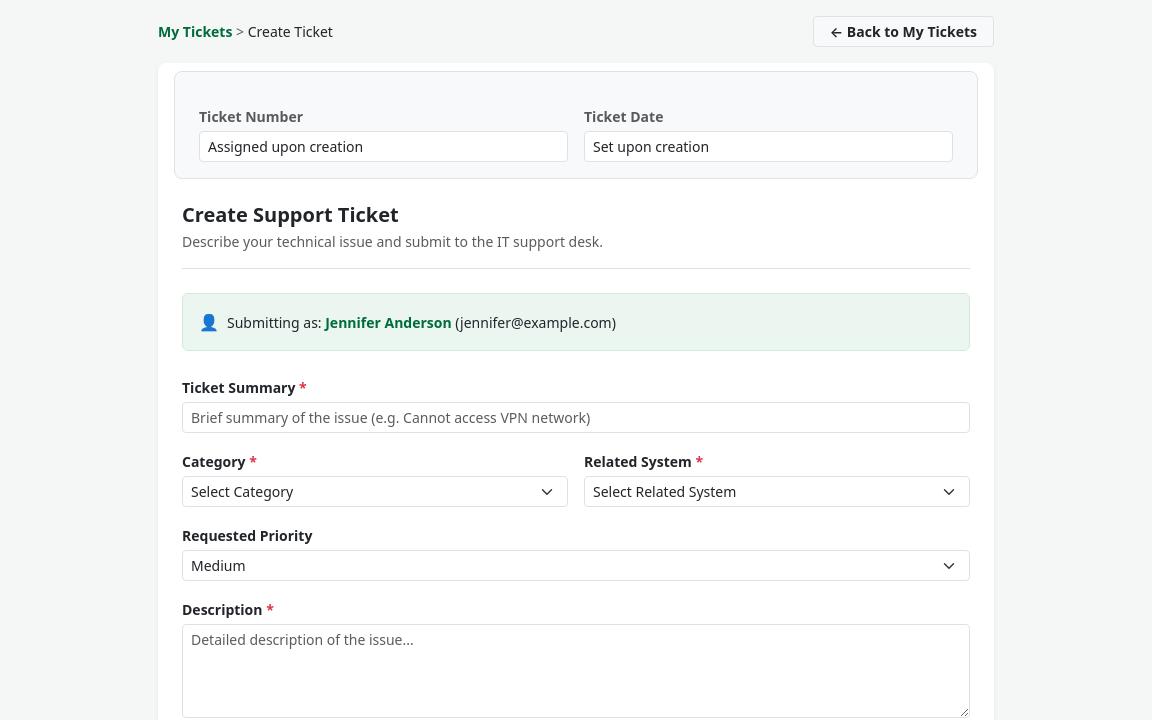
Test: Zen Green UI Style Checks › Create Ticket form › shows a spinner and disables the button while the form is busy submitting
Type "Test issue" into the field labelled "Ticket Summary *".
click(576, 418); type("Test issue")  # box [182,402,970,433]
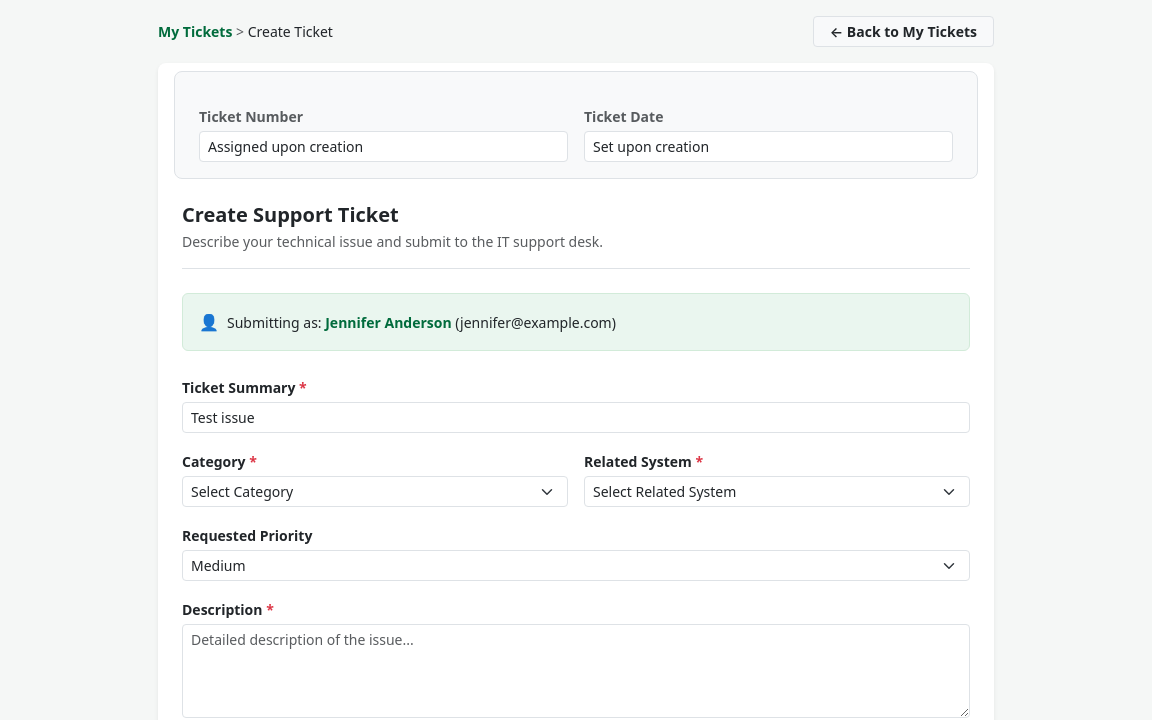
Type "A description long enough to pass validation." into the text box labelled "Description *".
click(576, 671); type("A description long enough to pass validation.")  # box [182,624,970,718]
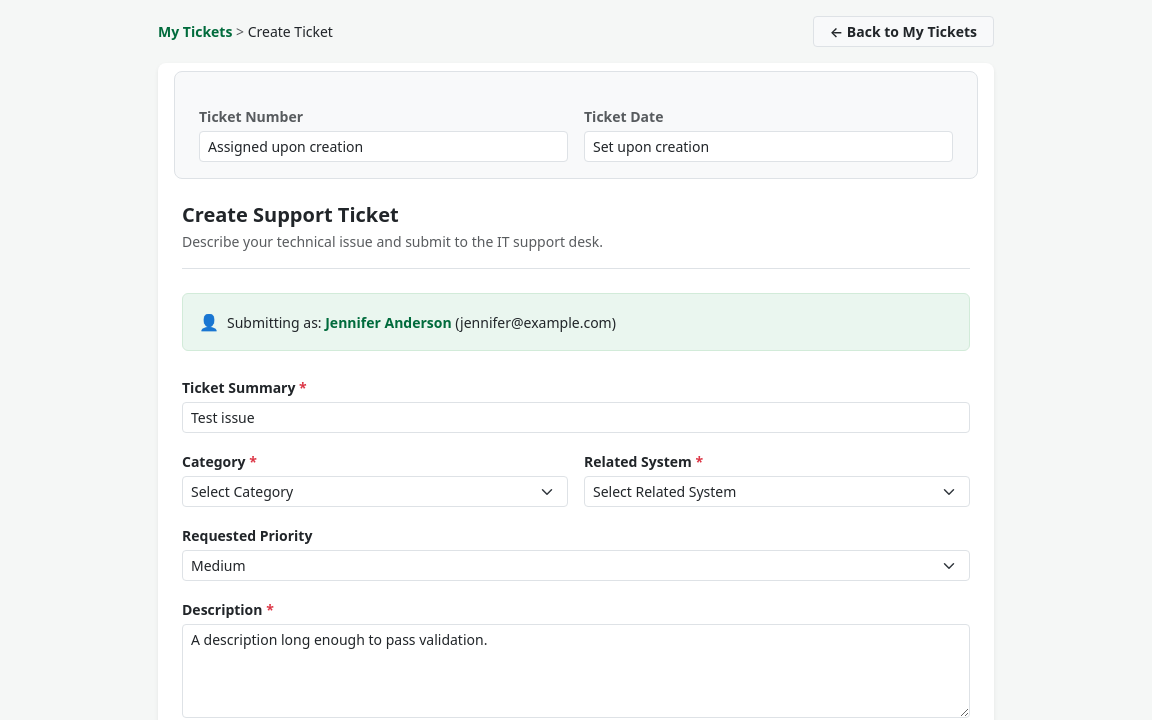
Select "Hardware" in the dropdown labelled "Category *" at (375, 492), box [182,476,568,507]
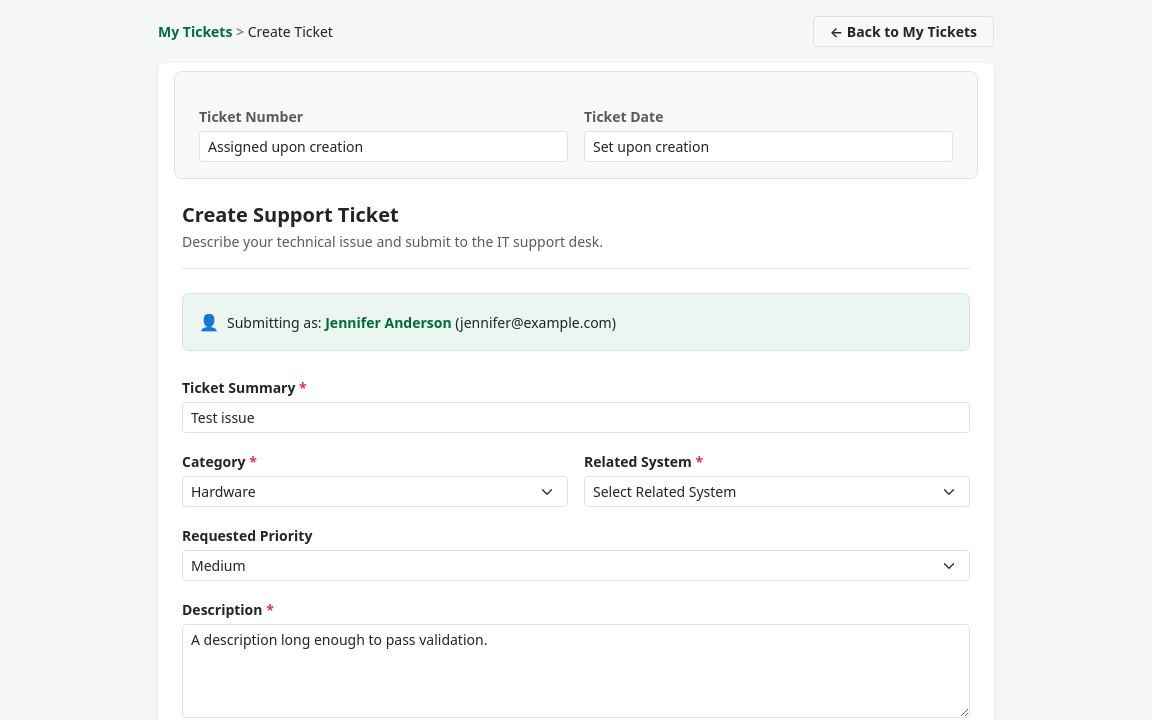
Select "Corporate Laptop" in the dropdown labelled "Related System *" at (777, 492), box [584,476,970,507]
(page scrolled)
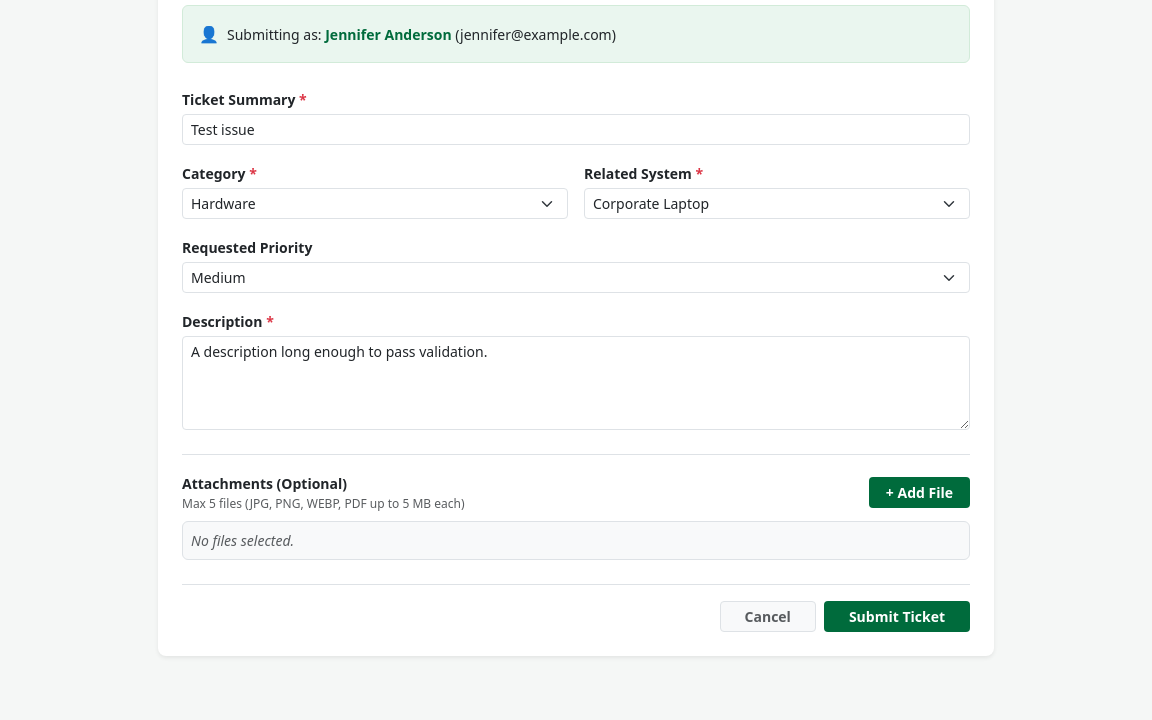
Click the button "Submit Ticket".
click(897, 616)  # box [824,601,970,632]
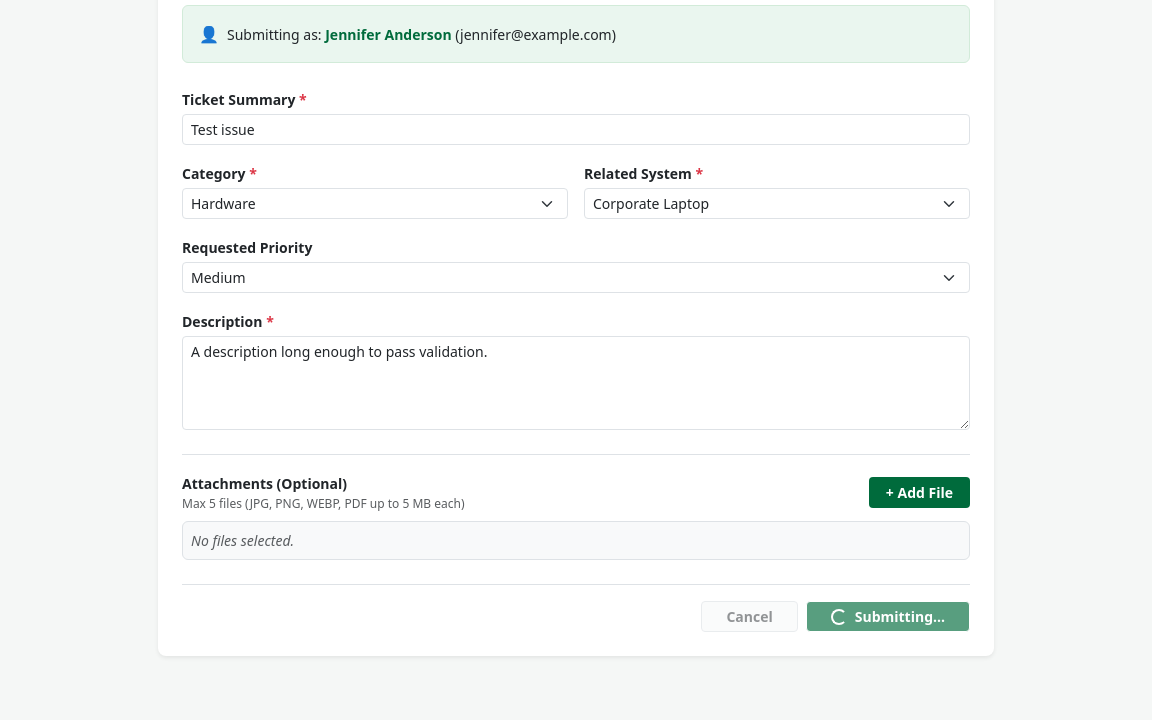
Expected: the button "Submitting..." is disabled, [806,601,970,632]
Expected: the message with class "spinner-border" is shown, [831,608,847,624]
